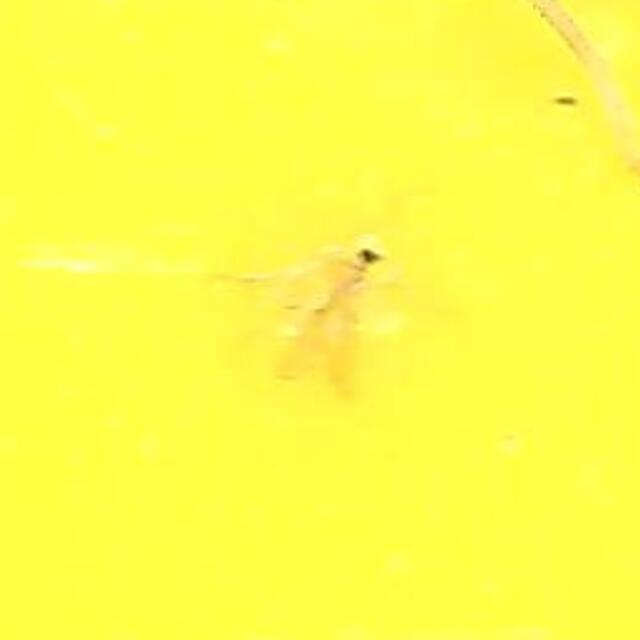Nematocera: (248, 242, 392, 398)
